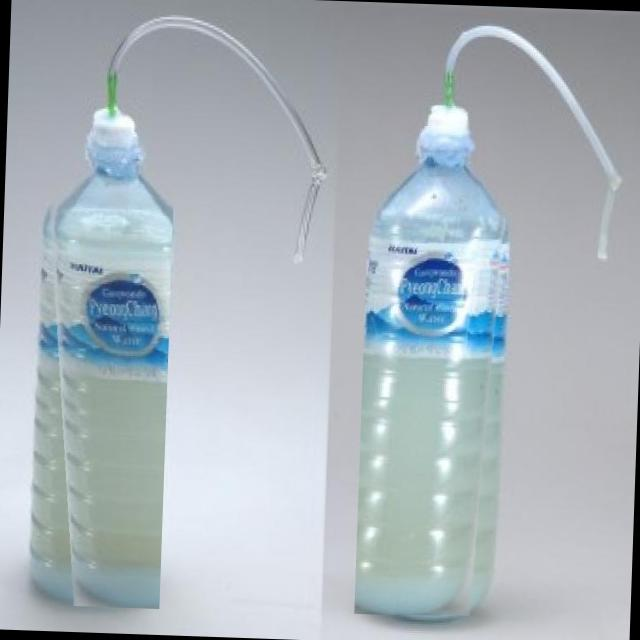plastic bottle: (354, 103, 514, 620), (25, 101, 177, 608)
